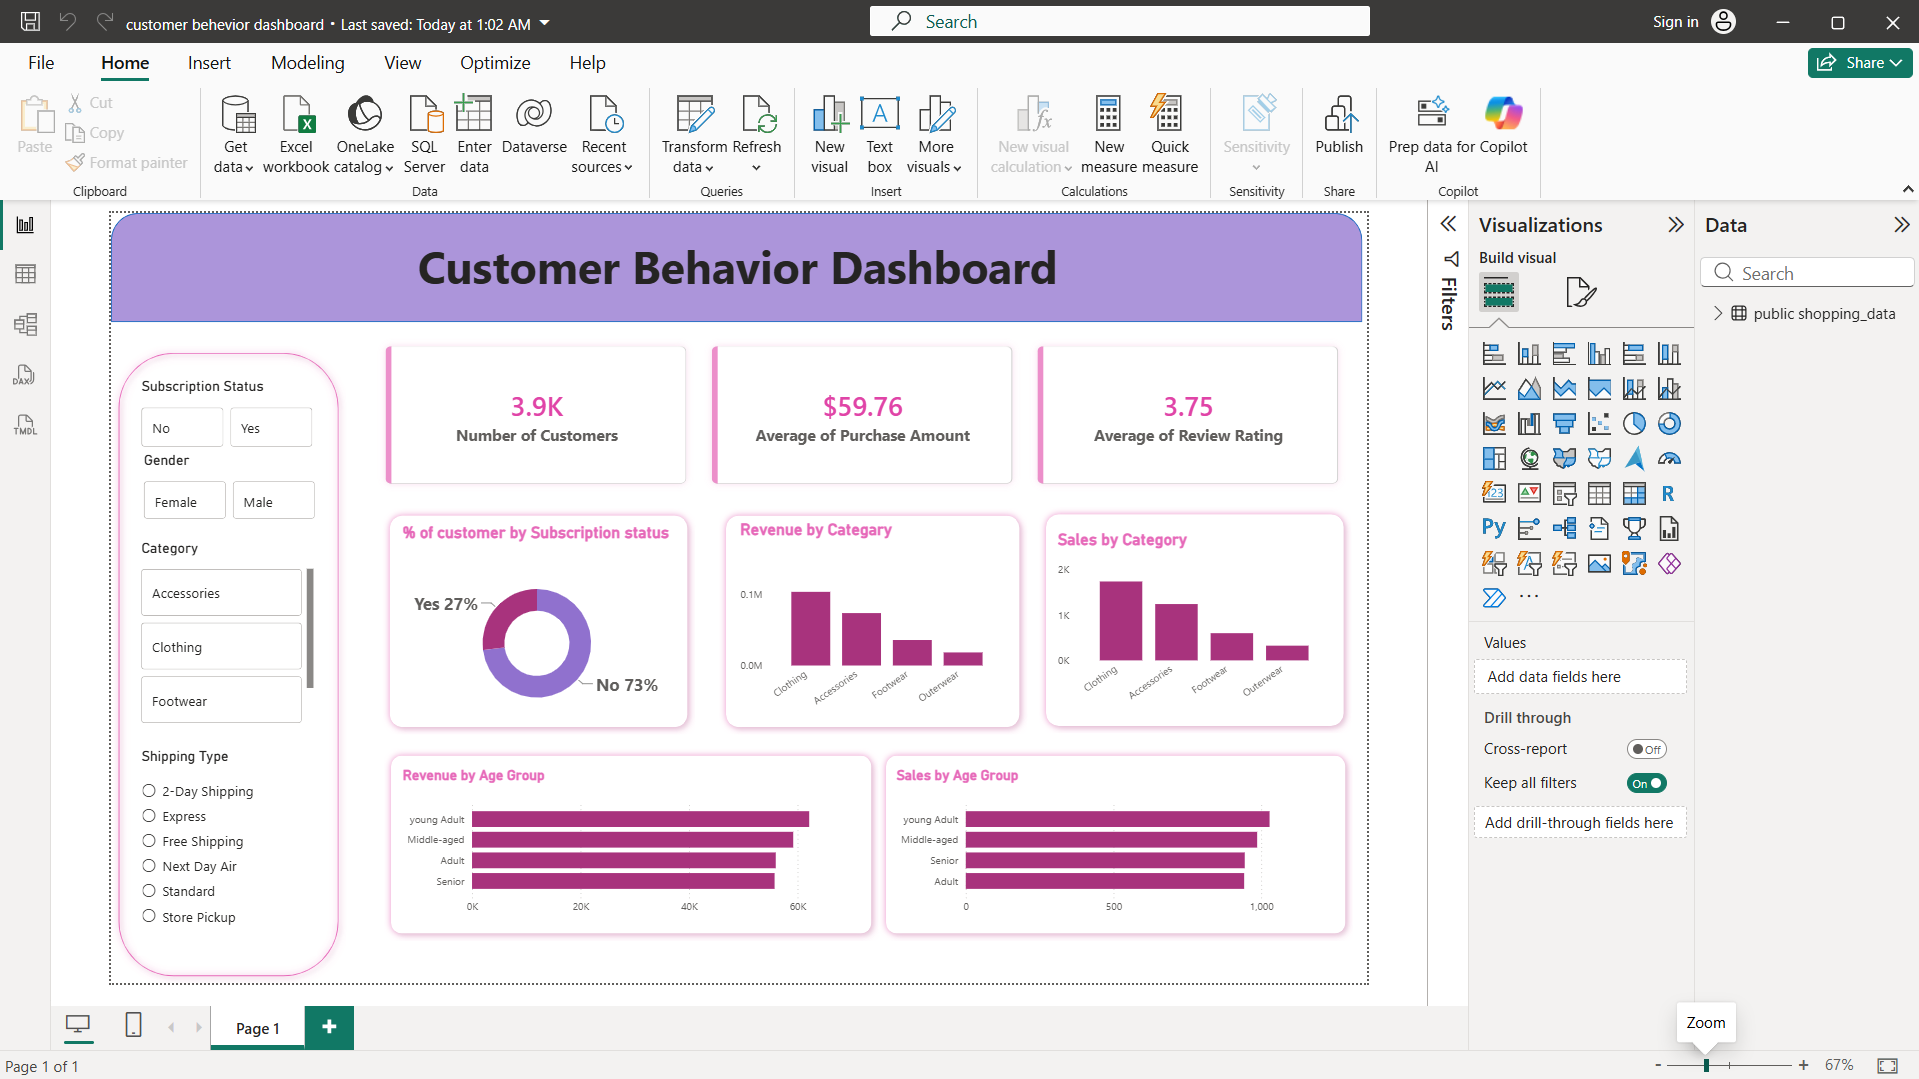

Layout of this report page (visuals, bound fields, positions):
{"tool":"powerbi","page":{"name":"Page 1","canvas":[1500,920],"ordinal":0},"visuals":[{"type":"cardVisual","fields":{"Data":["public shopping_data.Number of Customers","public shopping_data.Average of Purchase Amount","public shopping_data.Average of Review Rating"]},"box":[300.5,131.5,1193.2,220.6],"z":0},{"type":"shape","box":[0,0,1494,130.3],"z":1000},{"type":"textbox","box":[0,22.6,1481.5,107.8],"z":2000},{"type":"shape","box":[323.6,352.5,373.5,270.7],"z":3000},{"type":"donutChart","title":"% of customer by Subscription status  ","fields":{"Category":["public shopping_data.subscription_status"],"Y":["CountNonNull(public shopping_data.customer_id)"]},"box":[343.8,369.9,330.9,233.1],"z":4000},{"type":"shape","box":[1108.1,351.1,373.5,270.7],"z":5000},{"type":"shape","box":[725.3,352.5,368.5,270.7],"z":6000},{"type":"clusteredColumnChart","title":"Revenue by Categary","fields":{"Category":["public shopping_data.category"],"Y":["Sum(public shopping_data.purchase_amount)"]},"box":[746.9,367,325.9,243.2],"z":7000},{"type":"clusteredColumnChart","title":"Sales by Category","fields":{"Category":["public shopping_data.category"],"Y":["CountNonNull(public shopping_data.customer_id)"]},"box":[1125.4,378.5,338.4,218.1],"z":8000},{"type":"shape","box":[0,157.9,280.8,762],"z":9000},{"type":"advancedSlicerVisual","fields":{"Values":["public shopping_data.subscription_status"]},"box":[31.8,196.5,215.6,87.7],"z":10000},{"type":"advancedSlicerVisual","fields":{"Values":["public shopping_data.gender"]},"box":[34.7,284.6,215.6,85.2],"z":11000},{"type":"advancedSlicerVisual","fields":{"Values":["public shopping_data.category"]},"box":[31.8,390.1,215.6,225.6],"z":12000},{"type":"listSlicer","fields":{"Values":["public shopping_data.shipping_type"]},"box":[31.8,638.6,215.6,248.2],"z":13000},{"type":"shape","box":[325.1,638.6,591.6,230.6],"z":14000},{"type":"clusteredBarChart","title":"Revenue by Age Group ","fields":{"Y":["Sum(public shopping_data.purchase_amount)"],"Category":["public shopping_data.age_group"]},"box":[343.8,661.7,556.5,185.5],"z":15000},{"type":"shape","box":[916,638.6,566.5,230.6],"z":16000},{"type":"clusteredBarChart","title":"Sales by Age Group ","fields":{"Y":["CountNonNull(public shopping_data.customer_id)"],"Category":["public shopping_data.age_group"]},"box":[933.3,661.7,531.4,185.5],"z":17000}]}

Visuals, with their boxes on the page's 1500x920 design canvas (x1, y1, x2, y2). These are canvas units, not pixel positions in the 1919x1079 screenshot, which may show the page scaled, cropped or inside an application window:
cardVisual - public shopping_data.Number of Customers x public shopping_data.Average of Purchase Amount: BBox(300, 132, 1494, 352)
shape: BBox(0, 0, 1494, 130)
textbox: BBox(0, 23, 1482, 130)
shape: BBox(324, 352, 697, 623)
"% of customer by Subscription status  " donutChart: BBox(344, 370, 675, 603)
shape: BBox(1108, 351, 1482, 622)
shape: BBox(725, 352, 1094, 623)
"Revenue by Categary" clusteredColumnChart: BBox(747, 367, 1073, 610)
"Sales by Category" clusteredColumnChart: BBox(1125, 378, 1464, 597)
shape: BBox(0, 158, 281, 920)
advancedSlicerVisual - public shopping_data.subscription_status: BBox(32, 196, 247, 284)
advancedSlicerVisual - public shopping_data.gender: BBox(35, 285, 250, 370)
advancedSlicerVisual - public shopping_data.category: BBox(32, 390, 247, 616)
listSlicer - public shopping_data.shipping_type: BBox(32, 639, 247, 887)
shape: BBox(325, 639, 917, 869)
"Revenue by Age Group " clusteredBarChart: BBox(344, 662, 900, 847)
shape: BBox(916, 639, 1482, 869)
"Sales by Age Group " clusteredBarChart: BBox(933, 662, 1465, 847)
